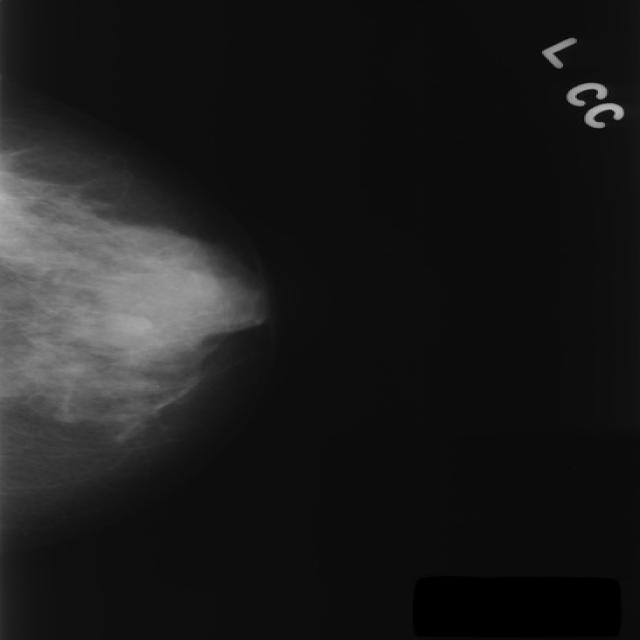tumour: (98, 310, 150, 345)
